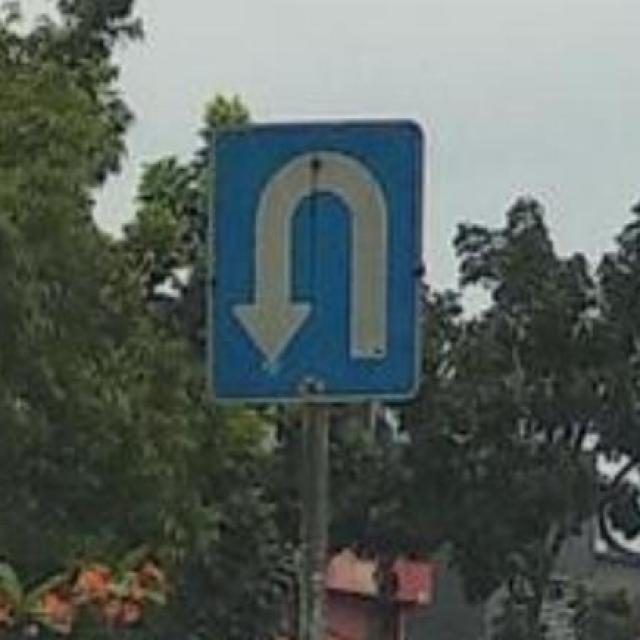U-turn: (213, 123, 415, 398)
